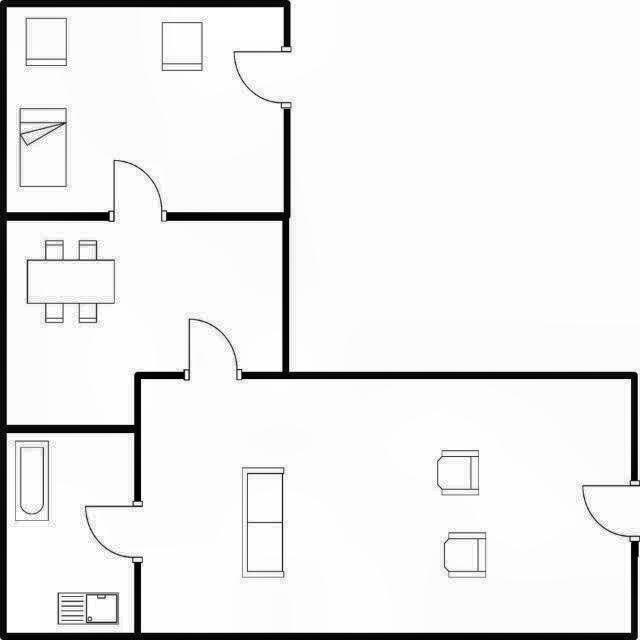room: (141, 379, 630, 632), (6, 222, 282, 425), (7, 9, 284, 211), (7, 434, 133, 631)
